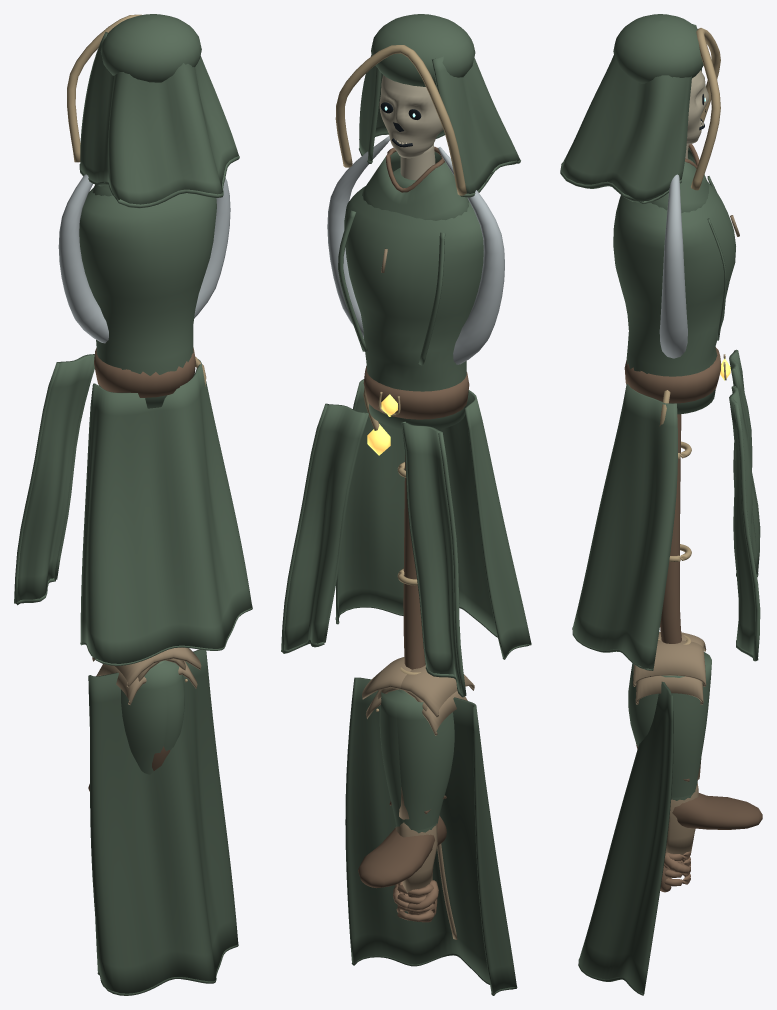
Rendered from hexer.glb.
3 views of the same model, side by side, from view 1: azimuth 30°, elevation 25°; view 2: azimuth 150°, elevation 25°; view 3: azimuth 270°, elevation 25° (orthographic). The views are drawn at different scales.
Parts seen in each view (by area): view 1: Body__sage, Cape__sage, Weapon__silver, LegL__sage, Body__leather, Body__gold, LegR__sage, ArmL__bronze, ArmR__bronze; view 2: Body__sage, Cape__sage, Weapon__silver, LegL__sage, Body__bone, ArmL__bronze, Body__gold, Body__leather, KneeL__leather, Weapon__leather, LegR__sage, ArmR__bronze (+2 smaller); view 3: Body__sage, Cape__sage, LegR__sage, Weapon__silver, ArmR__bronze, Body__leather, KneeL__leather, Body__gold, Weapon__leather, ArmL__bronze, Body__bone, Weapon__gold (+2 smaller).
Boxes of the visible parts, left/top/right/bottom form: Body__sage: left=14, top=14, right=252, bottom=665; Cape__sage: left=88, top=649, right=238, bottom=995; Weapon__silver: left=58, top=174, right=230, bottom=343; LegL__sage: left=121, top=660, right=176, bottom=774; Body__leather: left=94, top=347, right=195, bottom=397; Body__gold: left=67, top=14, right=141, bottom=162; LegR__sage: left=164, top=664, right=184, bottom=751; ArmL__bronze: left=92, top=652, right=185, bottom=704; ArmR__bronze: left=138, top=647, right=201, bottom=688; Body__sage: left=281, top=14, right=531, bottom=697; Cape__sage: left=345, top=677, right=517, bottom=995; Weapon__silver: left=327, top=136, right=504, bottom=364; LegL__sage: left=381, top=690, right=454, bottom=830; Body__bone: left=379, top=75, right=443, bottom=180; ArmL__bronze: left=377, top=665, right=474, bottom=892; Body__gold: left=335, top=45, right=466, bottom=415; Body__leather: left=363, top=146, right=469, bottom=419; KneeL__leather: left=358, top=795, right=446, bottom=888; Weapon__leather: left=403, top=455, right=425, bottom=669; LegR__sage: left=379, top=692, right=438, bottom=833; ArmR__bronze: left=362, top=657, right=427, bottom=718; Body__sage: left=560, top=14, right=760, bottom=670; Cape__sage: left=578, top=681, right=673, bottom=995; LegR__sage: left=628, top=661, right=711, bottom=797; Weapon__silver: left=659, top=174, right=687, bottom=358; ArmR__bronze: left=633, top=640, right=706, bottom=704; Body__leather: left=624, top=144, right=721, bottom=403; KneeL__leather: left=636, top=743, right=762, bottom=829; Body__gold: left=691, top=28, right=726, bottom=380; Weapon__leather: left=660, top=414, right=681, bottom=643; ArmL__bronze: left=658, top=632, right=706, bottom=854; Body__bone: left=685, top=70, right=708, bottom=158; Weapon__gold: left=658, top=390, right=691, bottom=644.
Bounding box in the file's own units: 0.5896 × 2.94 × 0.5719.
